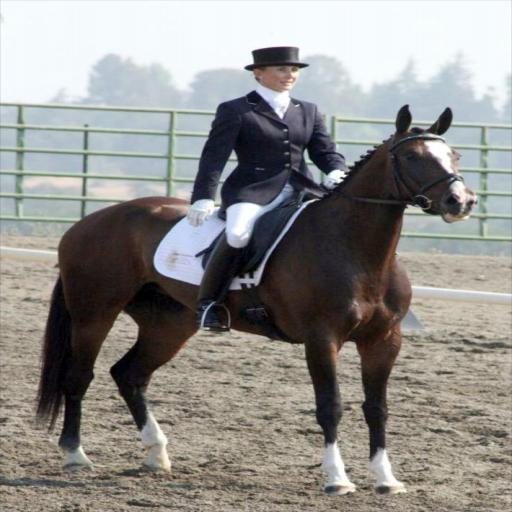horse: (32, 104, 479, 498)
